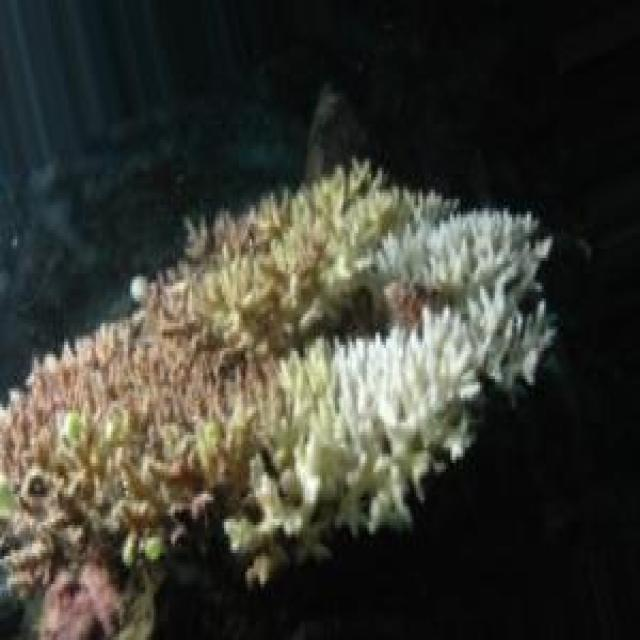bleached coral: (294, 308, 481, 538), (376, 193, 551, 325)
healthy coral: (0, 306, 248, 465)
